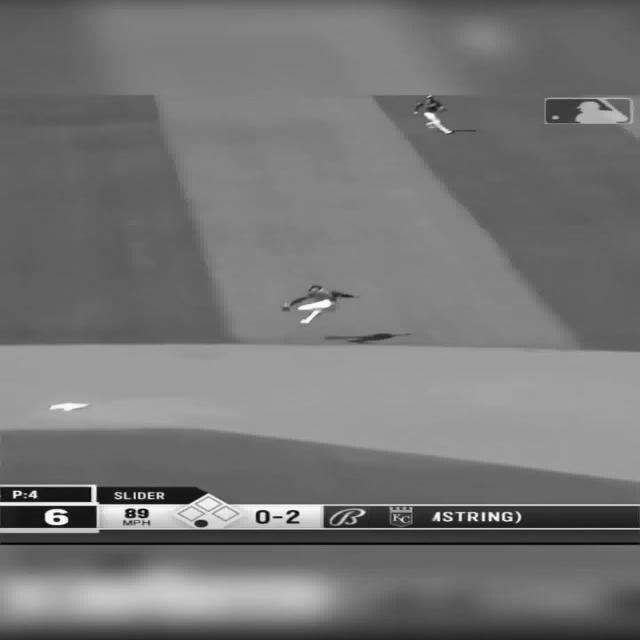shoe: (281, 302, 290, 312), (280, 306, 290, 312), (300, 319, 309, 324), (443, 130, 453, 134), (426, 122, 434, 127)
